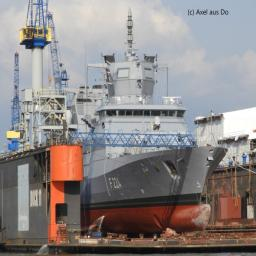Fragata: (64, 2, 233, 230)
